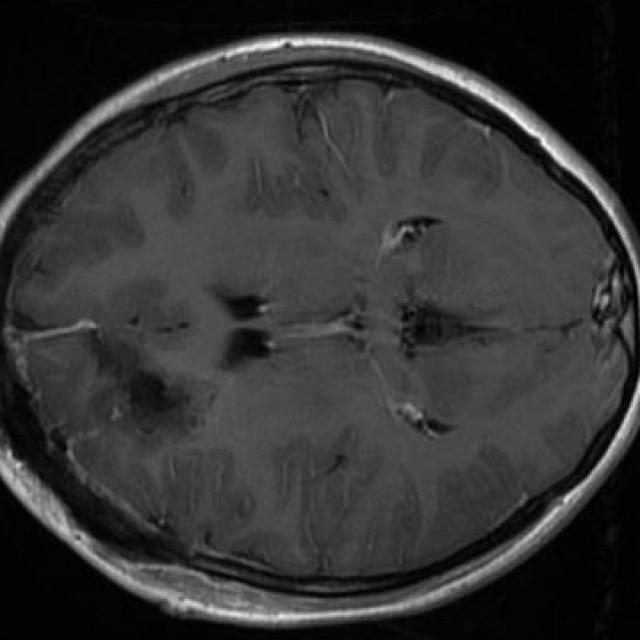glioma: (87, 282, 219, 444)
